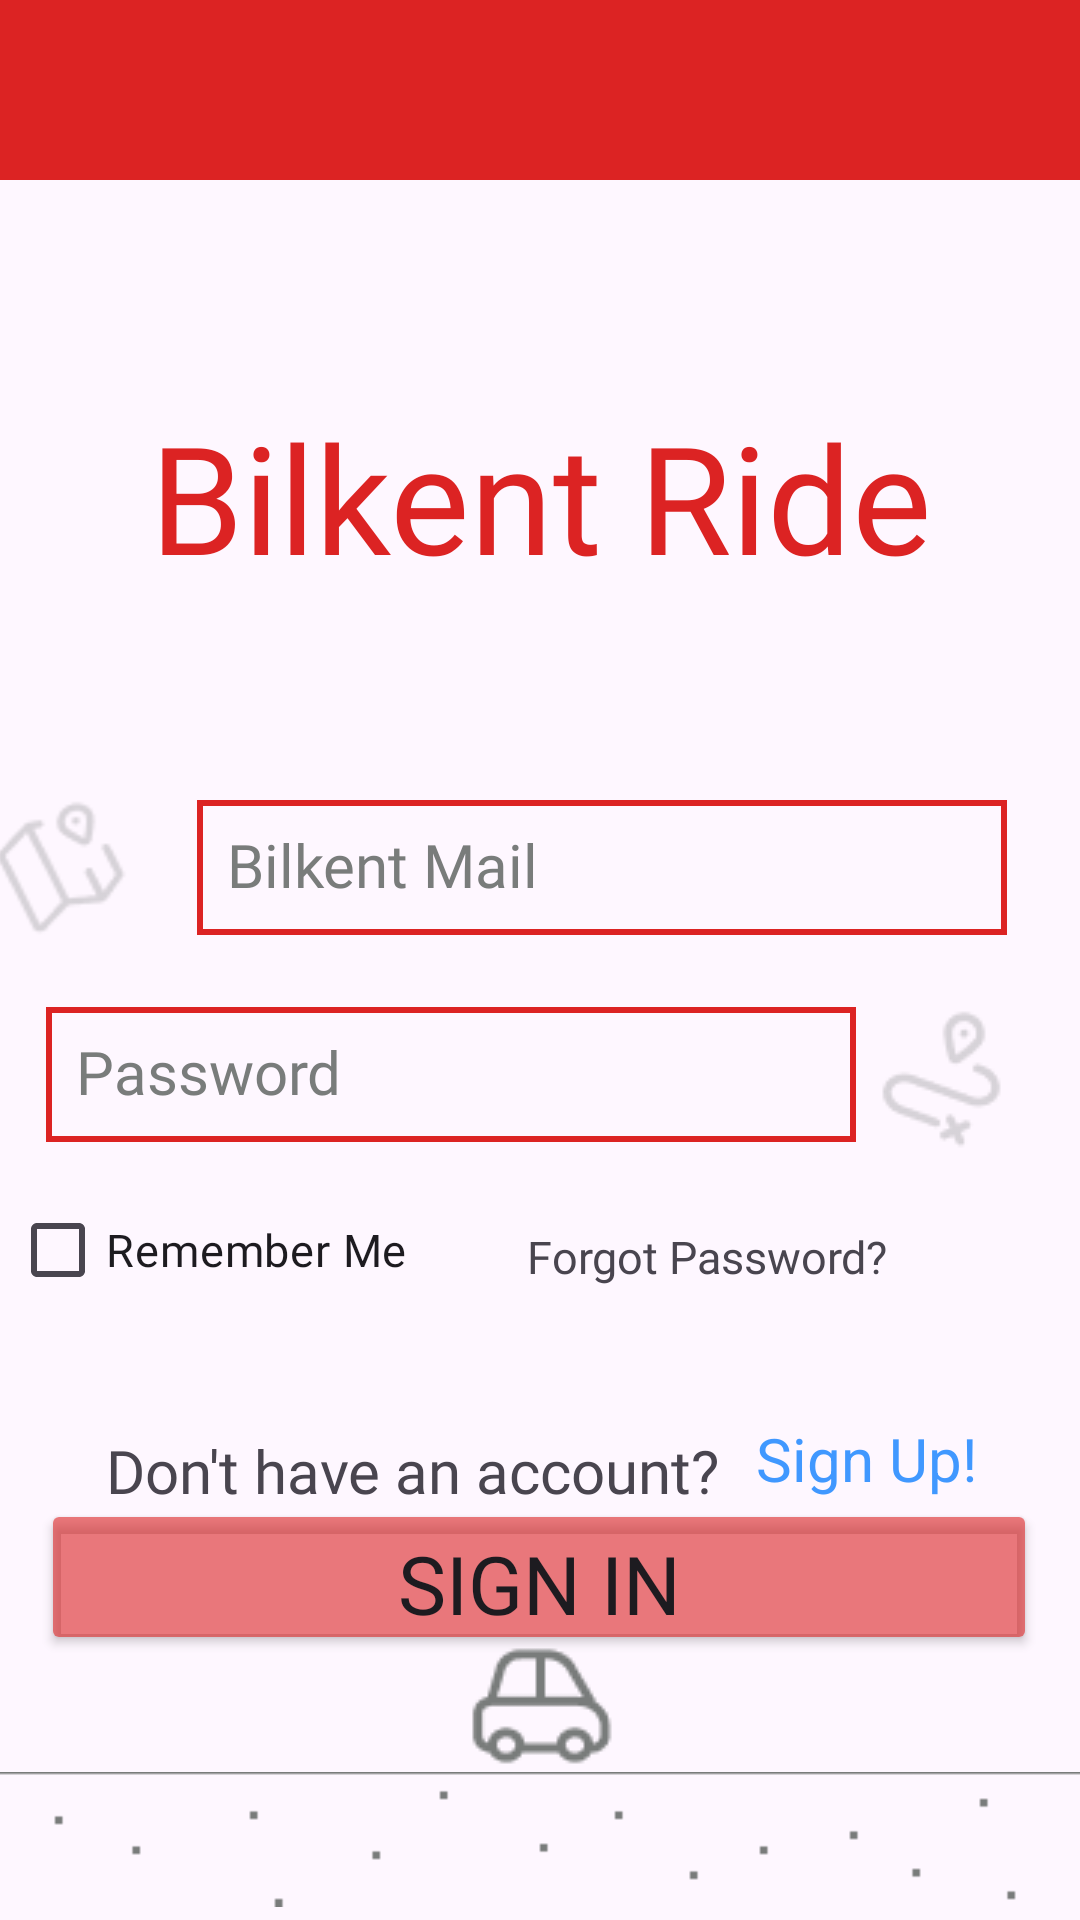

Where icons sit on this 1080x1920 app screen, as (x1, y1, x2, y2):
car: (472, 1648, 611, 1764)
